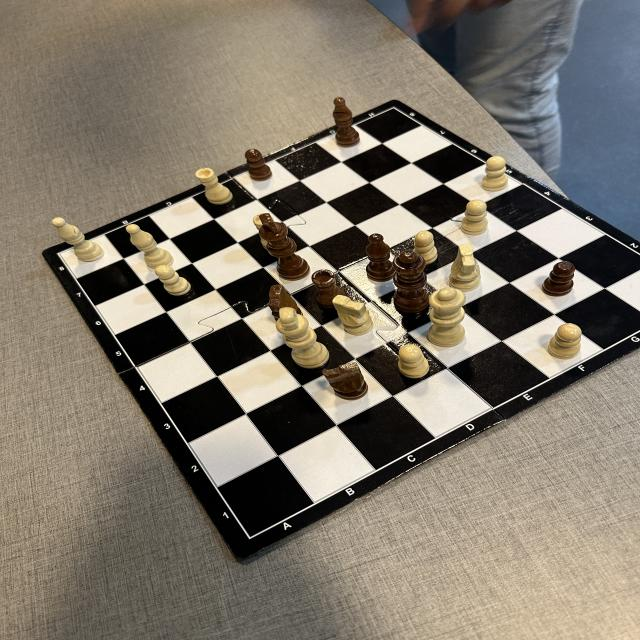Black-Bishop: (365, 232, 394, 282), (333, 96, 360, 148)
Black-King: (258, 212, 310, 281)
Black-Knight: (322, 362, 369, 401), (268, 284, 302, 315)
Black-Pawn: (542, 260, 576, 296), (244, 148, 274, 182)
Black-Queen: (393, 251, 430, 313)
Black-Rook: (312, 268, 338, 309)
White-Bishop: (51, 217, 106, 262), (126, 224, 174, 266)
White-King: (274, 306, 330, 369)
White-Knight: (332, 294, 374, 336), (447, 243, 481, 292)
White-Pawn: (154, 264, 192, 296), (397, 344, 430, 379), (549, 324, 581, 358), (460, 199, 488, 236), (481, 156, 508, 192), (414, 230, 438, 264)
White-Queen: (427, 287, 466, 347)
White-Rook: (194, 167, 233, 205), (253, 213, 264, 228)
